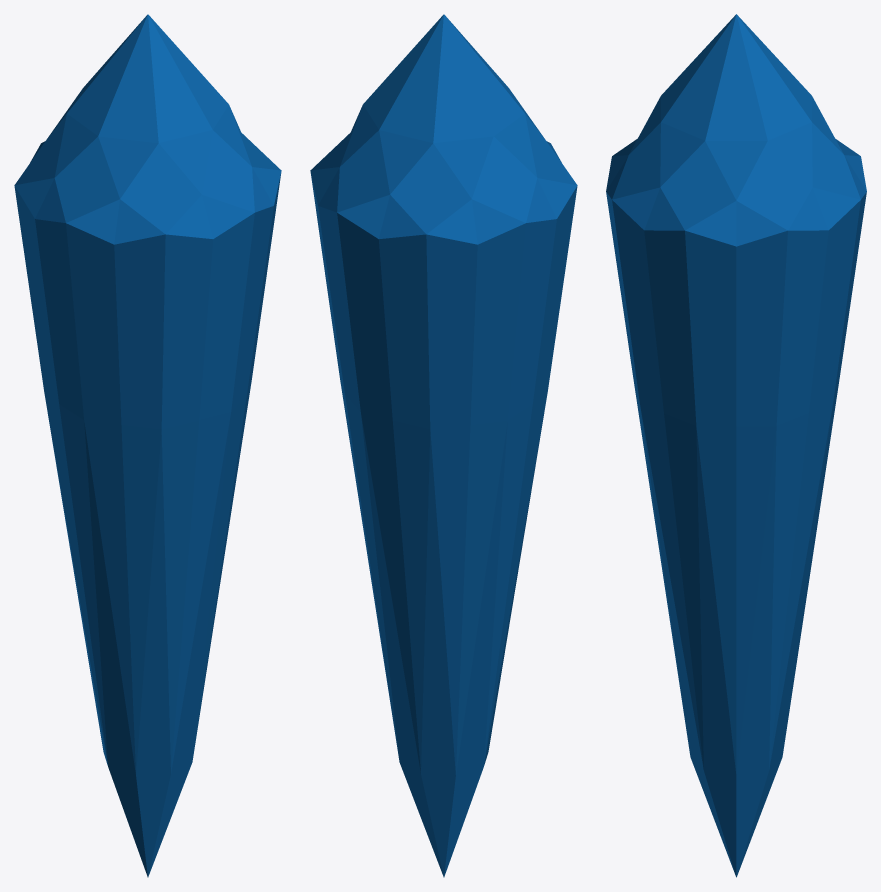
The model's file is blueCristal.fbx.
3 renders of one model, left to right at view 1: azimuth 30°, elevation 25°; view 2: azimuth 150°, elevation 25°; view 3: azimuth 270°, elevation 25°, orthographic.
Visible parts, largest first — view 1: Cylinder004; view 2: Cylinder004; view 3: Cylinder004.
Part boxes in pixels (x1,y1,x2,y2): Cylinder004: (14, 14, 281, 877); Cylinder004: (310, 14, 577, 877); Cylinder004: (606, 14, 866, 877).
Size of the model in its own units: 22.14 by 80.9 by 22.14.
